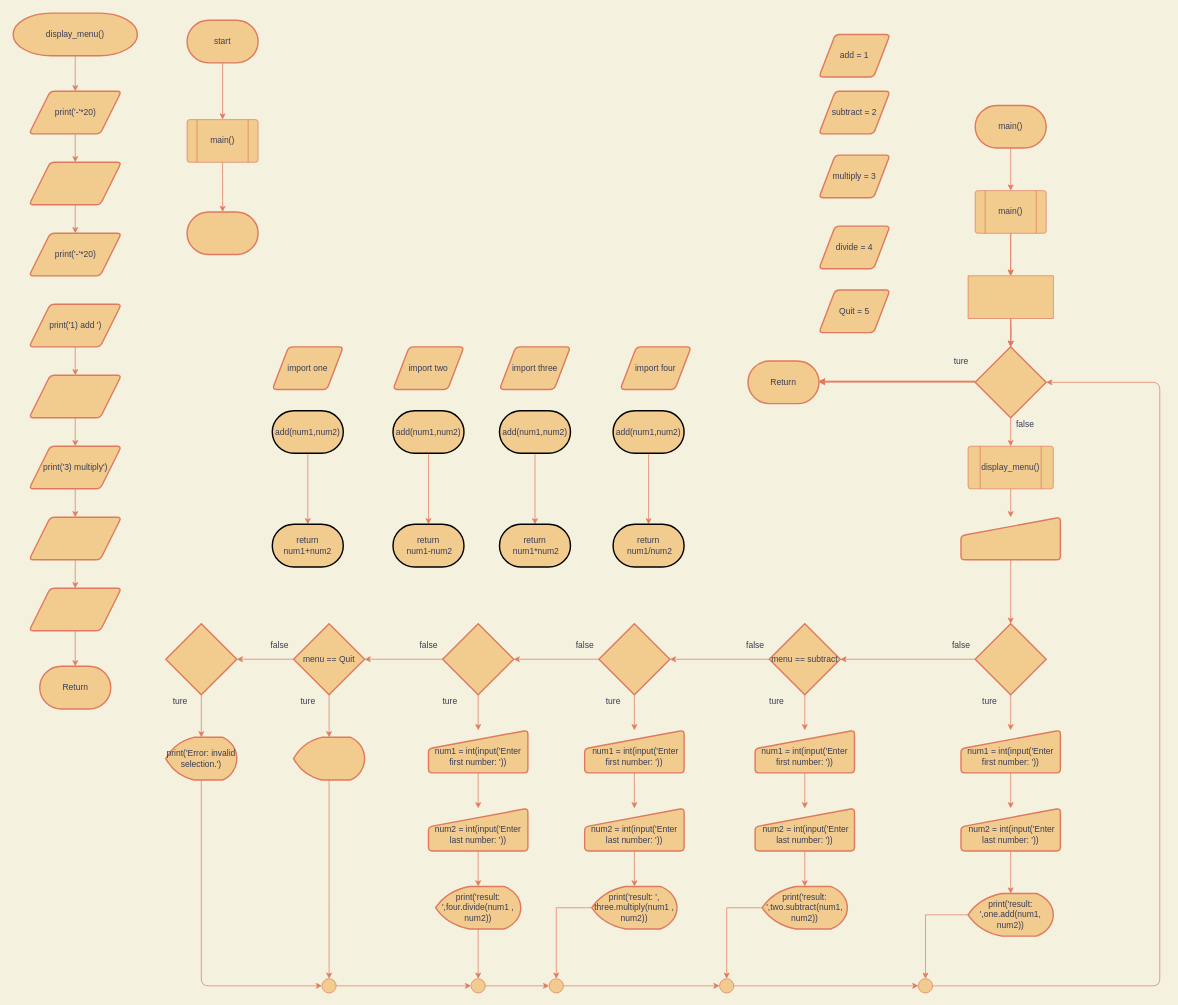
Some shapes in this 1178 by 1005 pixel diagram are drawn without their labels. Each missing label, with the centre of its shape:
"else:" belongs at point (201, 659).
"end" belongs at point (222, 233).
"menu != Quit:" belongs at point (1010, 382).
"menu = 0" belongs at point (1010, 296).
"menu = int(input('Enter you menu: '))" belongs at point (1010, 538).
"menu == add" belongs at point (1010, 659).
"menu == divide" belongs at point (478, 659).
"menu == multiply" belongs at point (634, 659).
"print(' MENU')" belongs at point (75, 183).
"print('2) subtract')" belongs at point (75, 396).
"print('4) divide')" belongs at point (75, 538).
"print('5) Quit')" belongs at point (75, 609).
"print('Exiting the program...')" belongs at point (329, 758).
